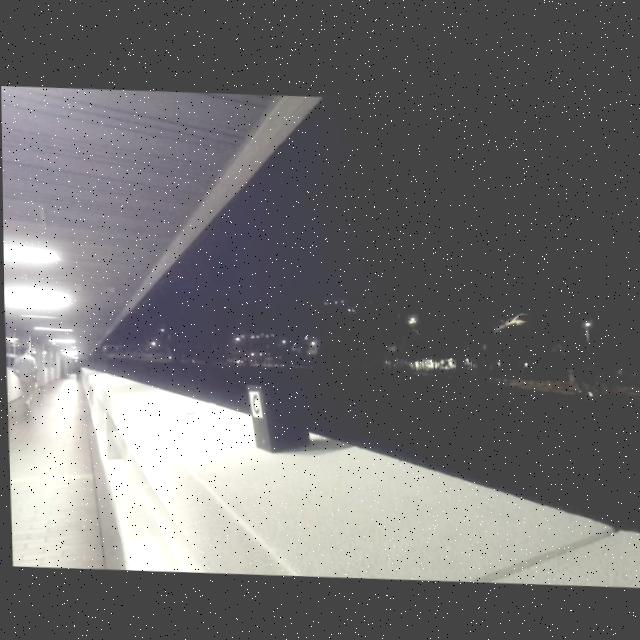C: (251, 390, 259, 410)
